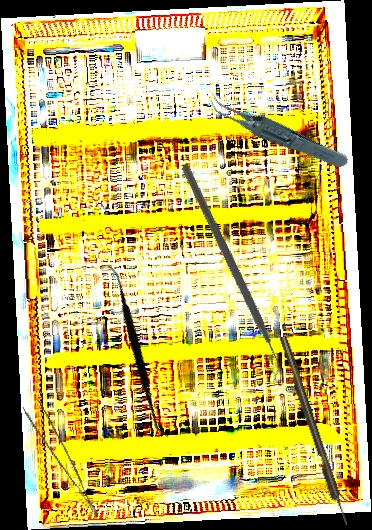Chopper: (109, 162, 348, 386)
Hook Surgical: (278, 335, 350, 527)
Spatula Surgical: (48, 263, 229, 439)
Tissue Forceps: (203, 65, 352, 195), (22, 396, 99, 527)
